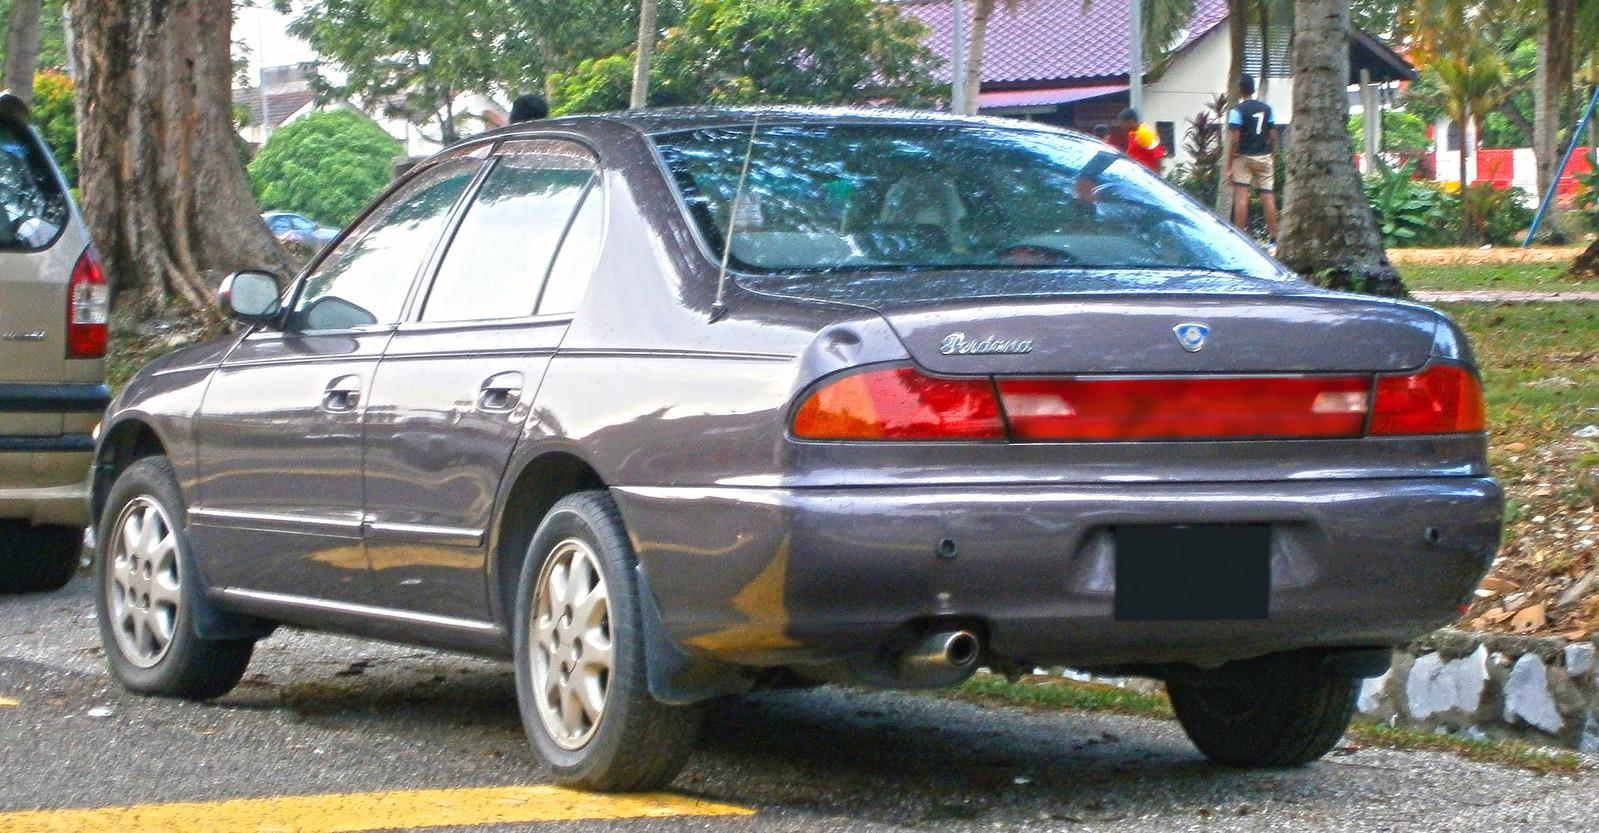quaterpanel-dent: (741, 278, 926, 470)
